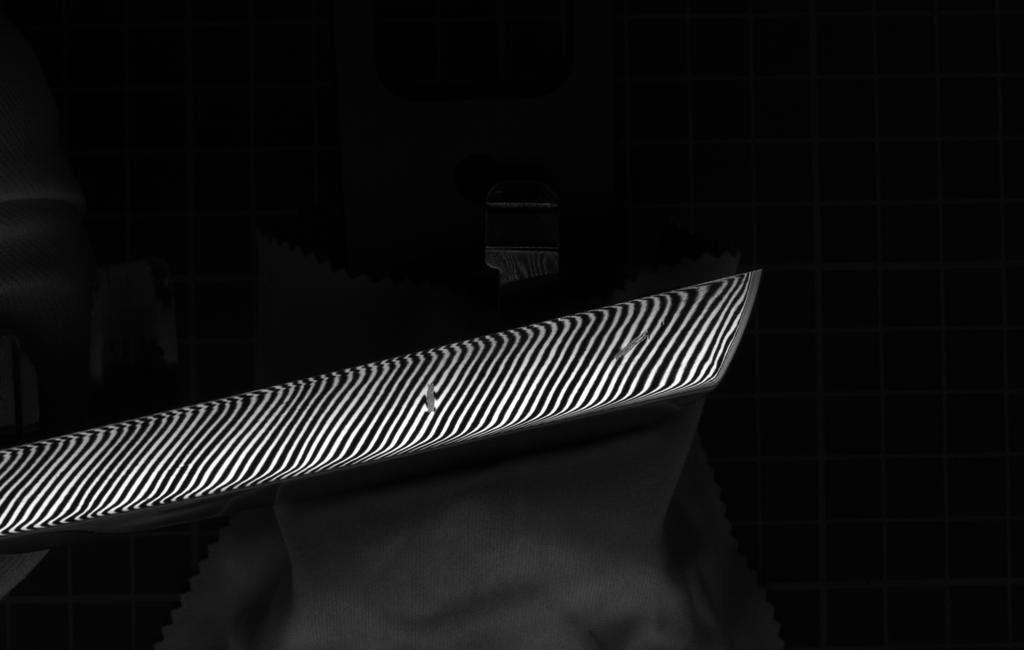Scratch: (603, 322, 665, 364), (420, 378, 444, 423)
